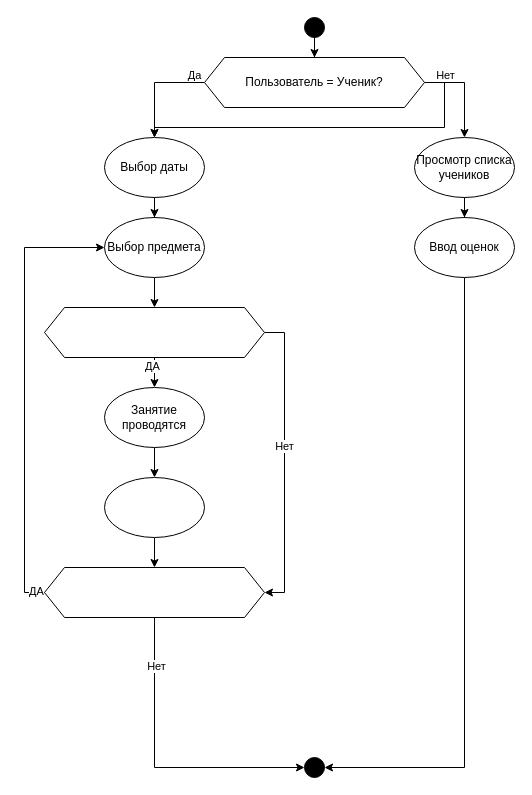
This 532x795 diagram has some shape labels left out. Here are the shapes that lost their labels. From the top down, the box of each, then its label:
(44, 306, 264, 358): Набирается ли группа для проведения занятий
(104, 476, 204, 538): Конец занятия
(44, 566, 264, 618): Есть занятия?
